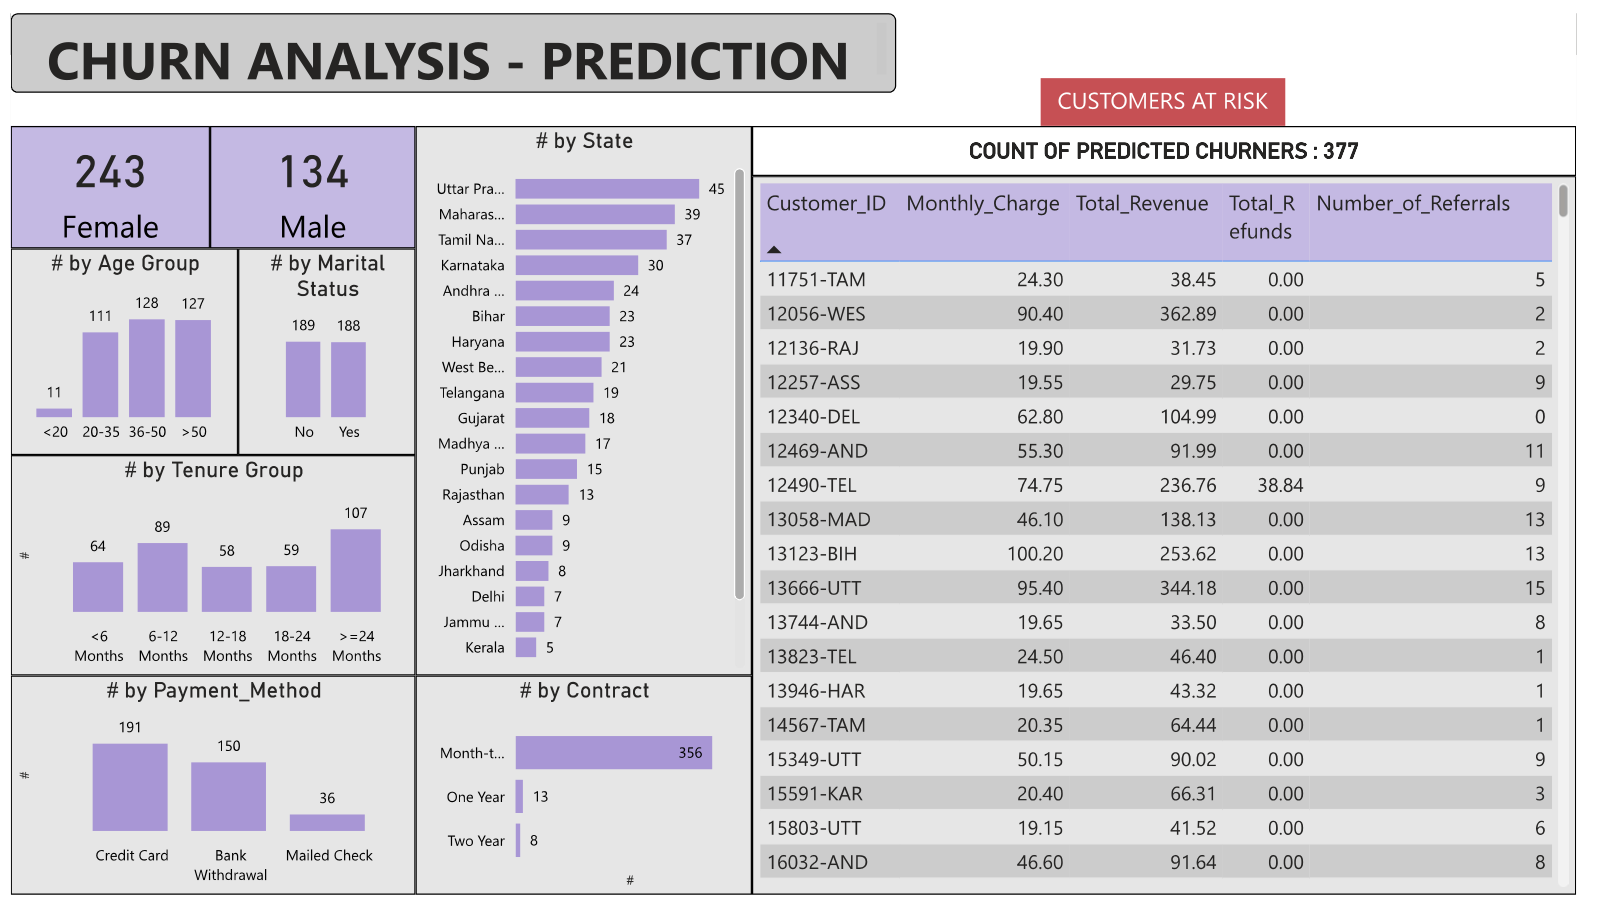

What the dashboard file says about the page in this screenshot:
{"tool":"powerbi","page":{"name":"Churn Prediction","canvas":[1280,720],"ordinal":2},"visuals":[{"type":"tableEx","fields":{"Values":["Predictions.Customer_ID","Predictions.Monthly_Charge","Predictions.Total_Revenue","Predictions.Total_Refunds","Predictions.Number_of_Referrals"]},"box":[606,133,674,586.8],"z":0},{"type":"card","fields":{"Values":["tbl_measures.Title Predicted Churners"]},"box":[606,91.6,674,41.4],"z":1000},{"type":"card","fields":{"Values":["tbl_measures.Count Predicted Churner"]},"box":[0,91.6,162.6,100.5],"z":2000},{"type":"card","fields":{"Values":["tbl_measures.Count Predicted Churner"]},"box":[162.6,91.6,168.5,100.5],"z":3000},{"type":"clusteredColumnChart","fields":{"Category":["mapping_AgeGrp.Age Group"],"Y":["CountNonNull(Predictions.Customer_ID)"]},"box":[0,192.1,186.2,168.5],"z":4000},{"type":"clusteredColumnChart","fields":{"Y":["CountNonNull(Predictions.Customer_ID)"],"Category":["Predictions.Married"]},"box":[186.2,192.1,144.8,168.5],"z":5000},{"type":"clusteredColumnChart","fields":{"Y":["CountNonNull(Predictions.Customer_ID)"],"Category":["mapping_TenureGrp.Tenure Group "]},"box":[0,360.6,331.1,180.3],"z":6000},{"type":"clusteredColumnChart","fields":{"Y":["CountNonNull(Predictions.Customer_ID)"],"Category":["Predictions.Payment_Method"]},"box":[0,541,331.1,178.8],"z":7000},{"type":"clusteredBarChart","fields":{"Category":["Predictions.Contract"],"Y":["CountNonNull(Predictions.Customer_ID)"]},"box":[331.1,541,274.9,178.8],"z":8000},{"type":"clusteredBarChart","fields":{"Y":["CountNonNull(Predictions.Customer_ID)"],"Category":["Predictions.State"]},"box":[331.1,91.6,274.9,449.3],"z":9000},{"type":"textbox","box":[0,0,724.2,65],"z":11000},{"type":"textbox","box":[842.5,53.2,199.5,38.4],"z":12000}]}

Visuals, with their boxes in screenshot pixels (x1, y1, x2, y2), scaled from the page's 1280x720 canvas onto the 1598x918 screenshot:
tableEx - Predictions.Customer_ID x Predictions.Monthly_Charge: (757, 170, 1597, 917)
card - tbl_measures.Title Predicted Churners: (757, 117, 1597, 170)
card - tbl_measures.Count Predicted Churner: (0, 117, 203, 245)
card - tbl_measures.Count Predicted Churner: (203, 117, 413, 245)
clusteredColumnChart - mapping_AgeGrp.Age Group x CountNonNull(Predictions.Customer_ID): (0, 245, 232, 460)
clusteredColumnChart - CountNonNull(Predictions.Customer_ID) x Predictions.Married: (232, 245, 413, 460)
clusteredColumnChart - CountNonNull(Predictions.Customer_ID) x mapping_TenureGrp.Tenure Group : (0, 460, 413, 690)
clusteredColumnChart - CountNonNull(Predictions.Customer_ID) x Predictions.Payment_Method: (0, 690, 413, 917)
clusteredBarChart - Predictions.Contract x CountNonNull(Predictions.Customer_ID): (413, 690, 757, 917)
clusteredBarChart - CountNonNull(Predictions.Customer_ID) x Predictions.State: (413, 117, 757, 690)
textbox: (0, 0, 904, 83)
textbox: (1052, 68, 1301, 117)
